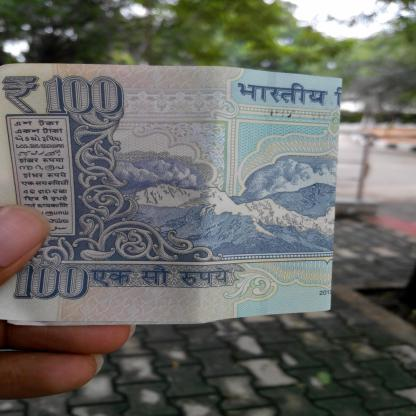Old100Back: (0, 62, 345, 326)
